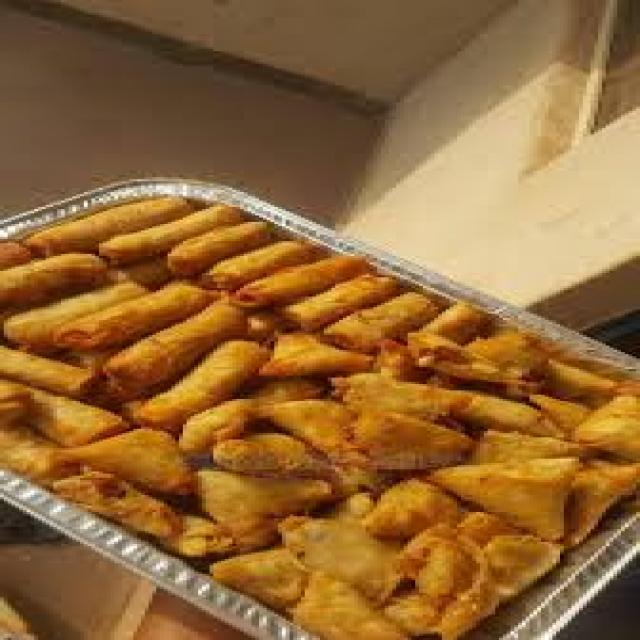Samosa: (229, 345, 637, 640)
Spring Rolls: (4, 184, 488, 435)
